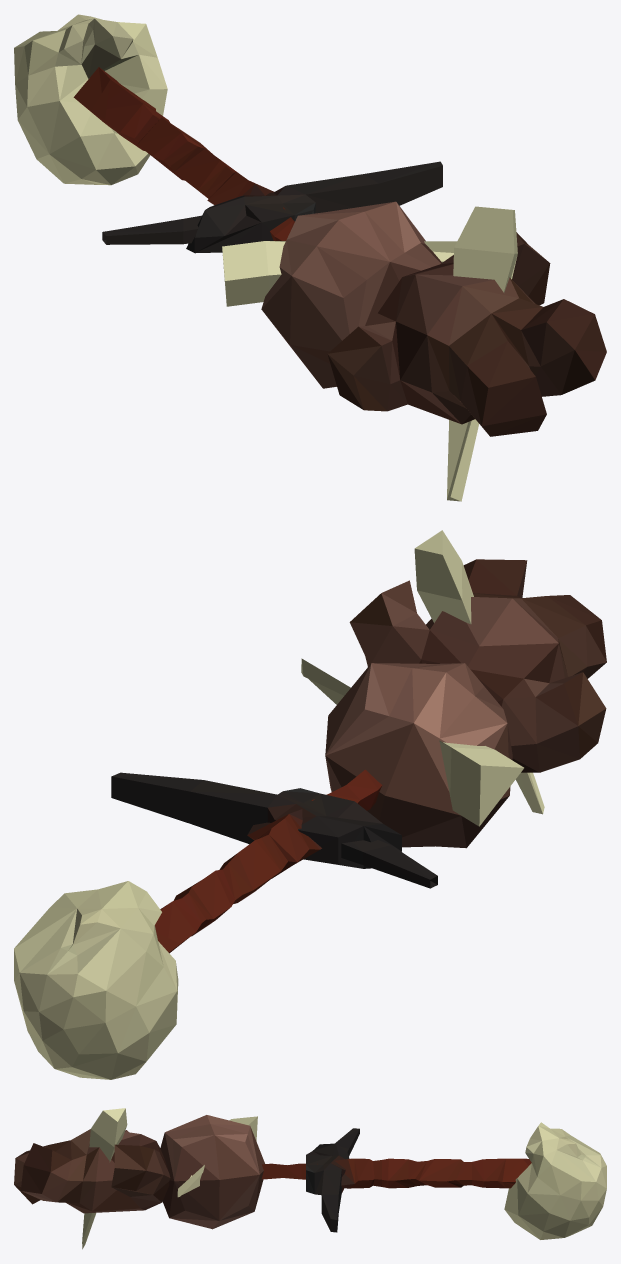
File: weapon_offhand_red.fbx
3 renders of one model, top to bottom at view 1: azimuth 30°, elevation 25°; view 2: azimuth 150°, elevation 25°; view 3: azimuth 270°, elevation 25°, orthographic. The views are drawn at different scales.
Visible parts, largest first — view 1: weapon_offhand_red; view 2: weapon_offhand_red; view 3: weapon_offhand_red.
Part boxes in pixels (box(x1,y1,x2,y2)): weapon_offhand_red: box(14, 14, 606, 501); weapon_offhand_red: box(14, 530, 606, 1079); weapon_offhand_red: box(14, 1108, 606, 1249).
Bounding box in the file's own units: 0.6457 × 0.5032 × 1.69.
